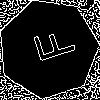F: (23, 24, 77, 68)
